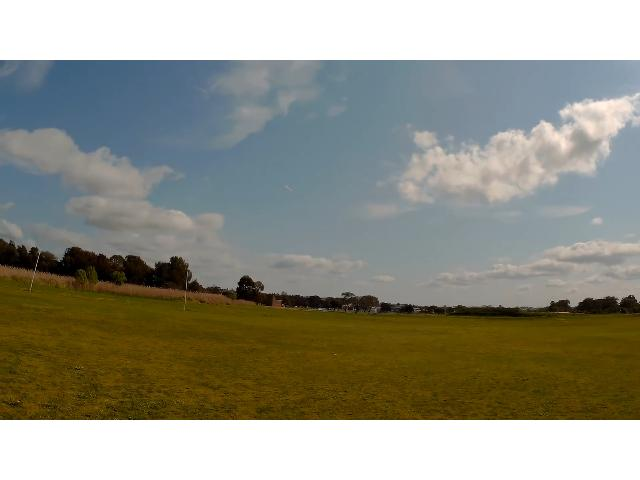Anti-Drone: (272, 176, 310, 202)
